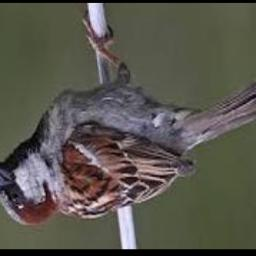Sparrow: (0, 14, 256, 227)
